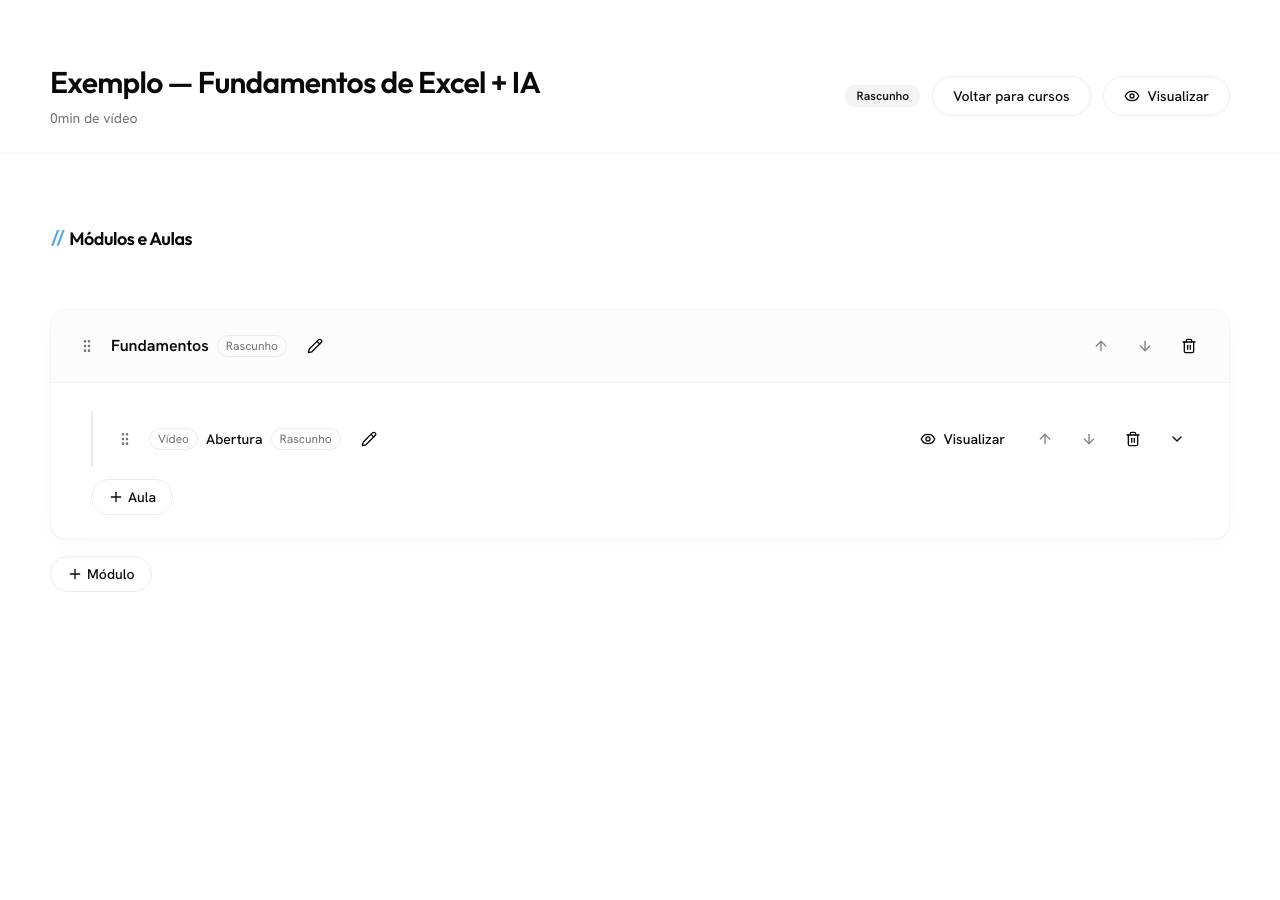
it: arquivos da aula › lista o nome e o tamanho
Click the button named "Abrir a aula Abertura" at (1177, 439), box left=1157, top=419, right=1197, bottom=459
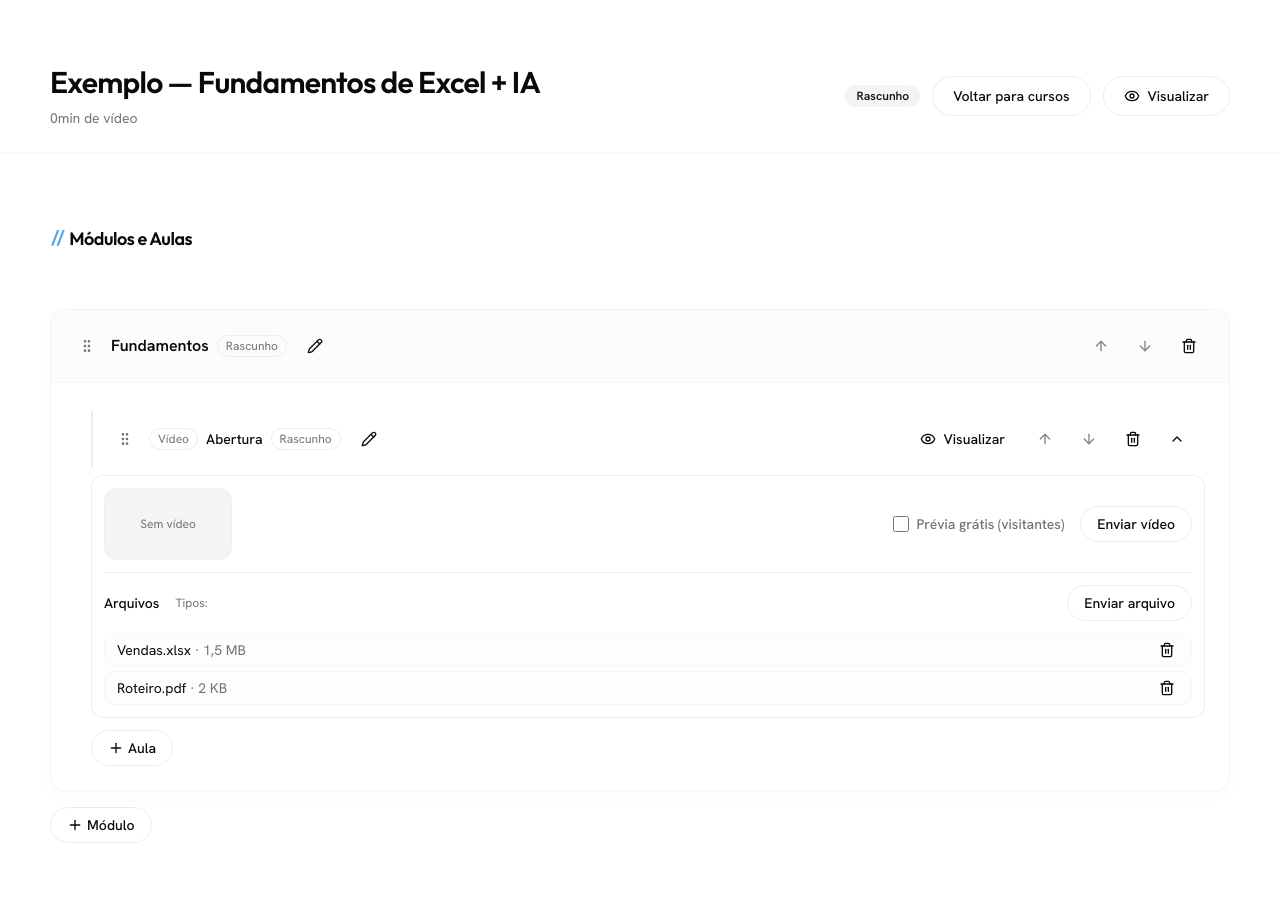
Check: the text "Vendas.xlsx" is shown, box left=117, top=641, right=191, bottom=659
Check: the text "· 1,5 MB" is shown, box left=195, top=641, right=246, bottom=659
Check: the text "· 2 KB" is shown, box left=190, top=679, right=227, bottom=697
